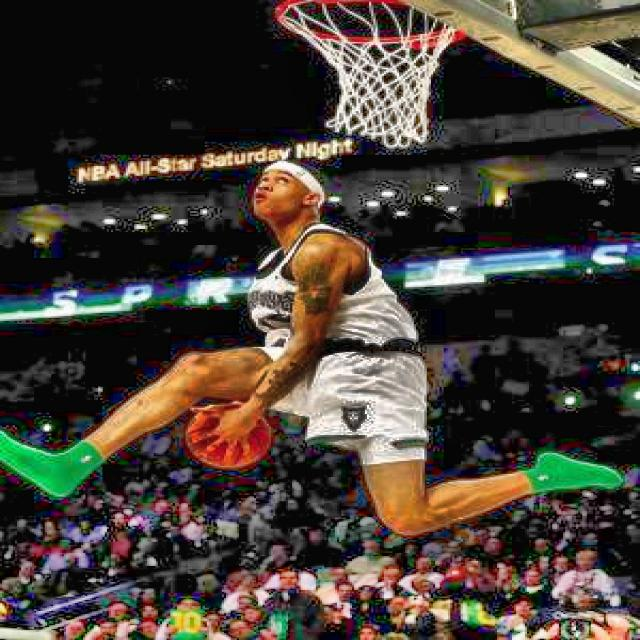rim: (274, 0, 475, 147)
